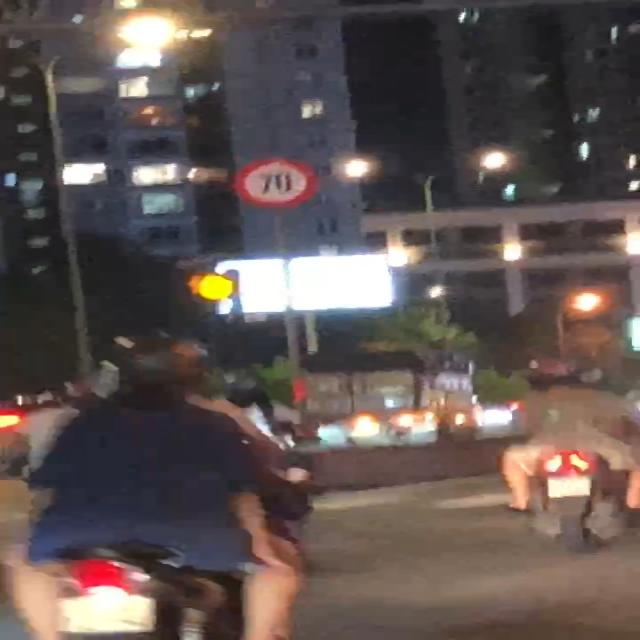Bien bao toc do toi da cho phep: (233, 159, 326, 210)
